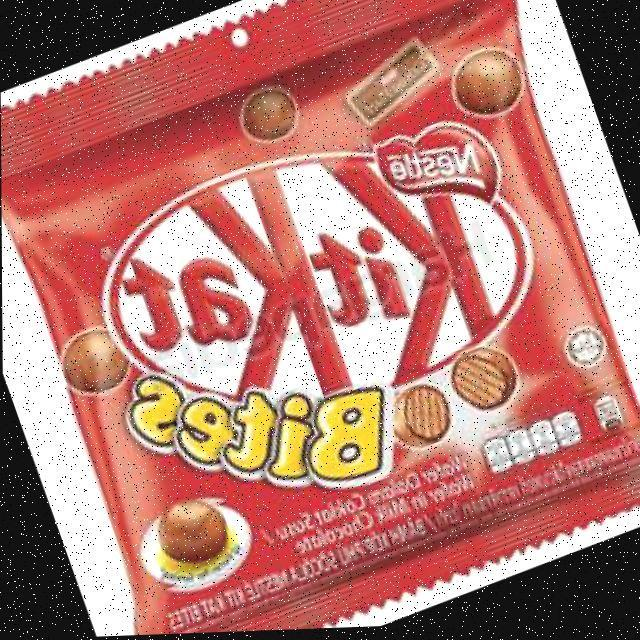kitkat_chocolate: (150, 0, 563, 640)
